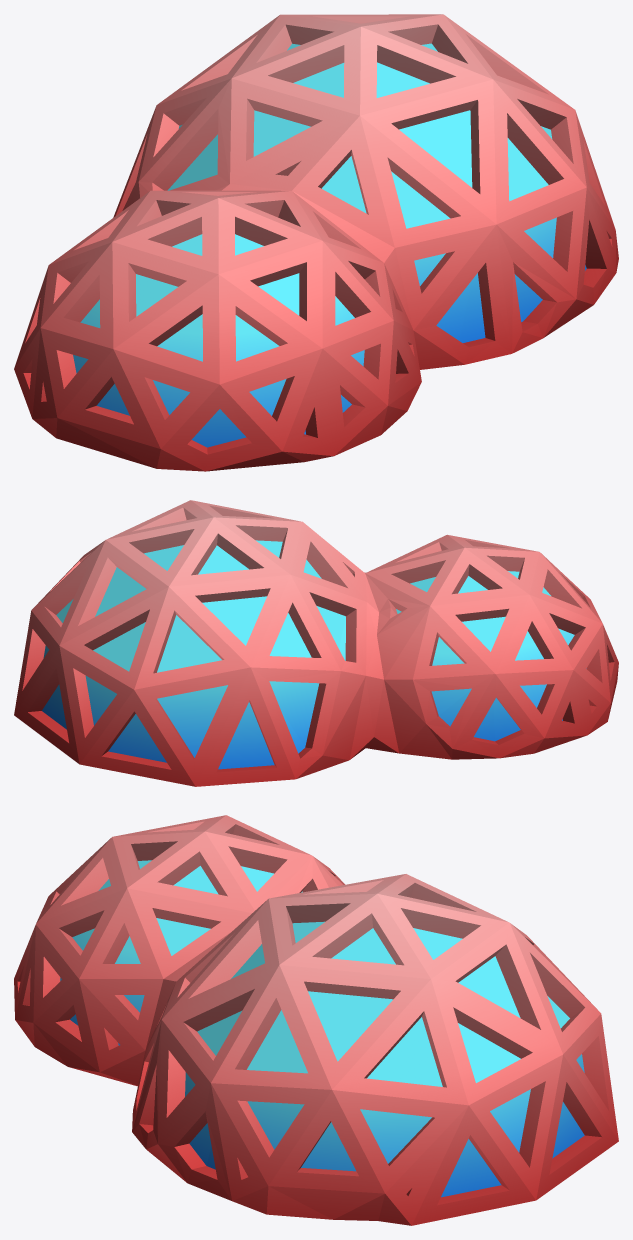
Rendered from SM_Coral_12.fbx.
The picture shows the model from 3 angles, top to bottom: view 1: azimuth 30°, elevation 25°; view 2: azimuth 150°, elevation 25°; view 3: azimuth 270°, elevation 25°; orthographic projection. The views are drawn at different scales.
Visible parts, largest first — view 1: Coral_12; view 2: Coral_12; view 3: Coral_12.
Part boxes in pixels (<box>): Coral_12: <box>14,14,618,471</box>; Coral_12: <box>14,500,618,786</box>; Coral_12: <box>14,815,618,1225</box>.
Size of the model in its own units: 111 by 40.09 by 96.45.
